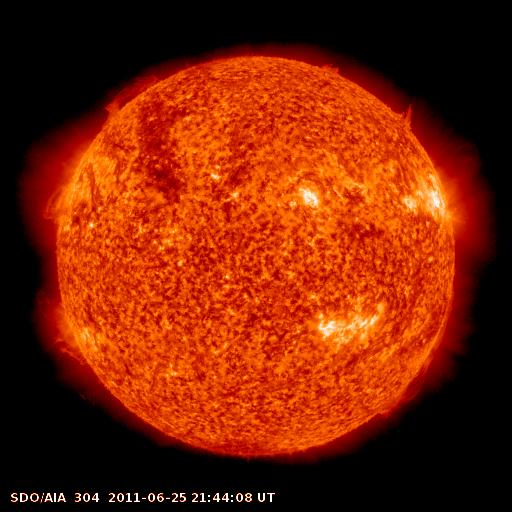prominence: (378, 317, 450, 415), (102, 70, 167, 124), (47, 300, 93, 370), (39, 185, 75, 229), (388, 97, 424, 135), (317, 55, 344, 81)
